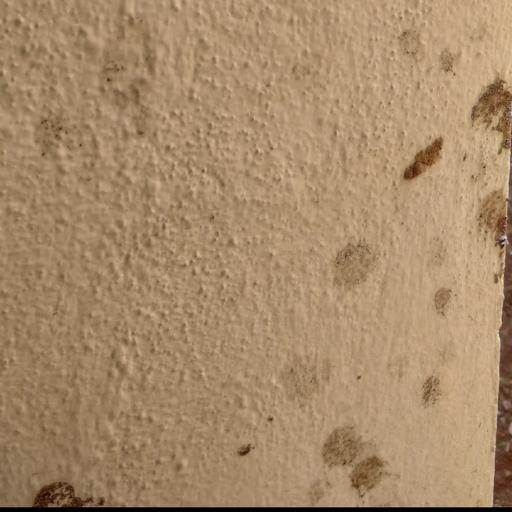stain: (259, 14, 512, 512), (36, 2, 181, 188), (20, 450, 77, 512), (221, 430, 276, 459)
